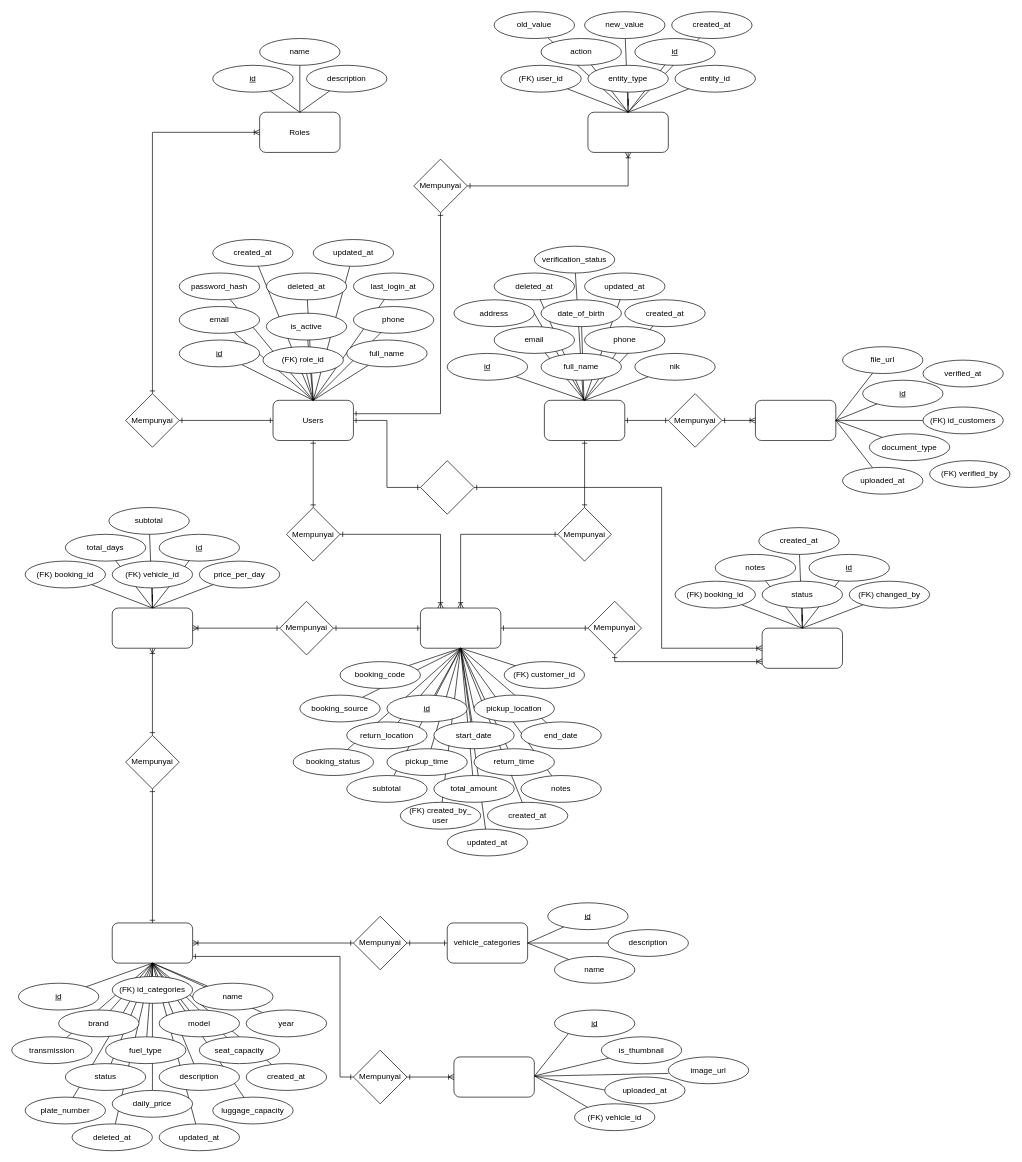
This 1022x1162 diagram has some shape labels left out. Each missing label, with the centre of its shape:
"audit_logs" goes at (627,132).
"booking_items" goes at (152,627).
"booking_status_ histories" goes at (802,647).
"bookings" goes at (460,627).
"Customers" goes at (584,420).
"CustomersDocument" goes at (795,420).
"Mengubah" goes at (447,487).
"vehicle_images" goes at (493,1076).
"vehicles" goes at (152,942).
